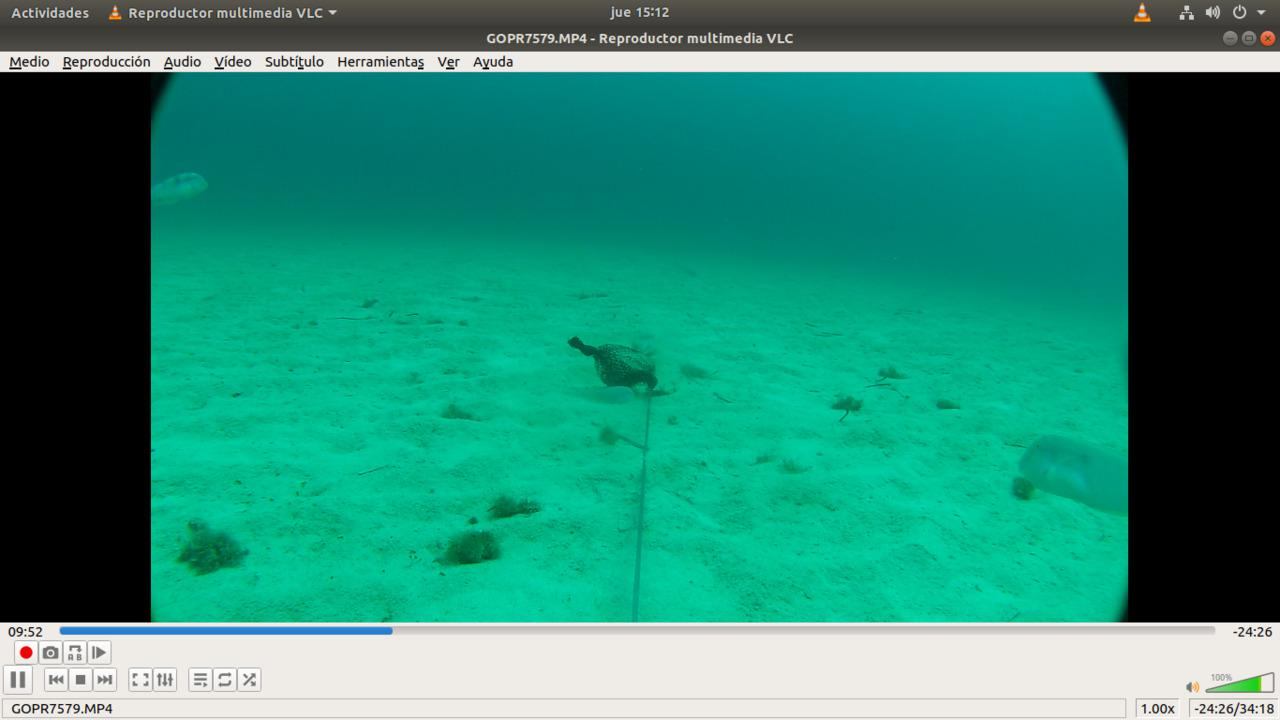raor: (1014, 422, 1130, 532), (155, 161, 221, 217)
